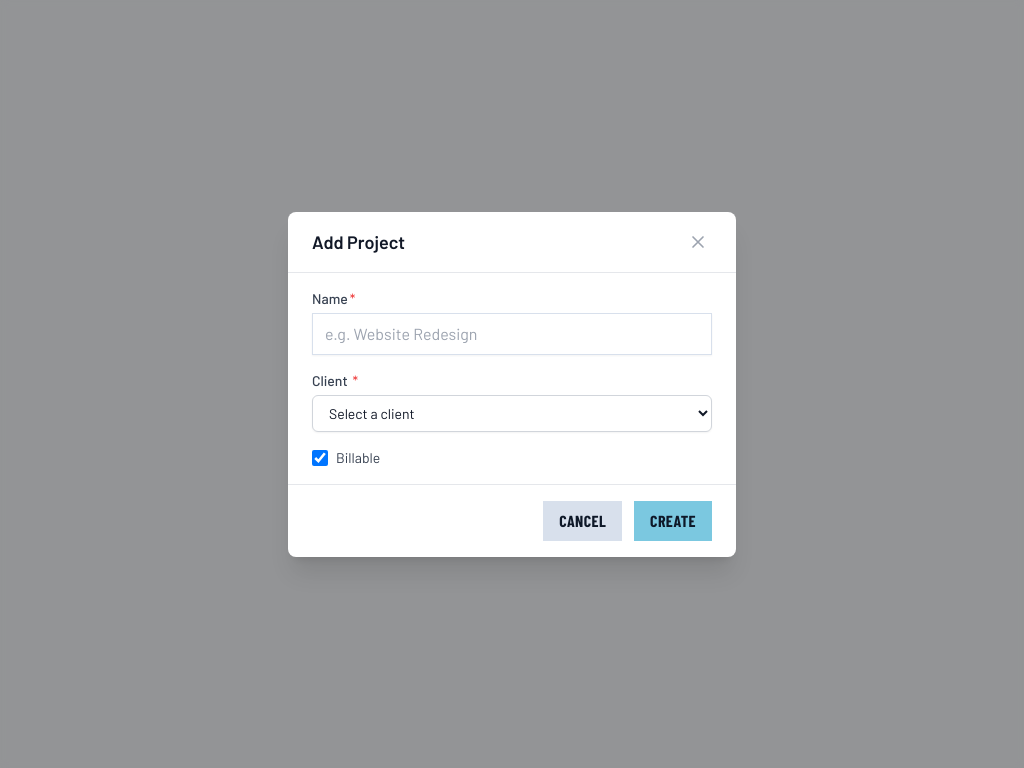
it: ProjectForm › shows validation error for empty name
// Select a client so validation only fails on name
Select "Client A" in the dropdown labelled "Client *": (512, 413) [312,394,712,432]
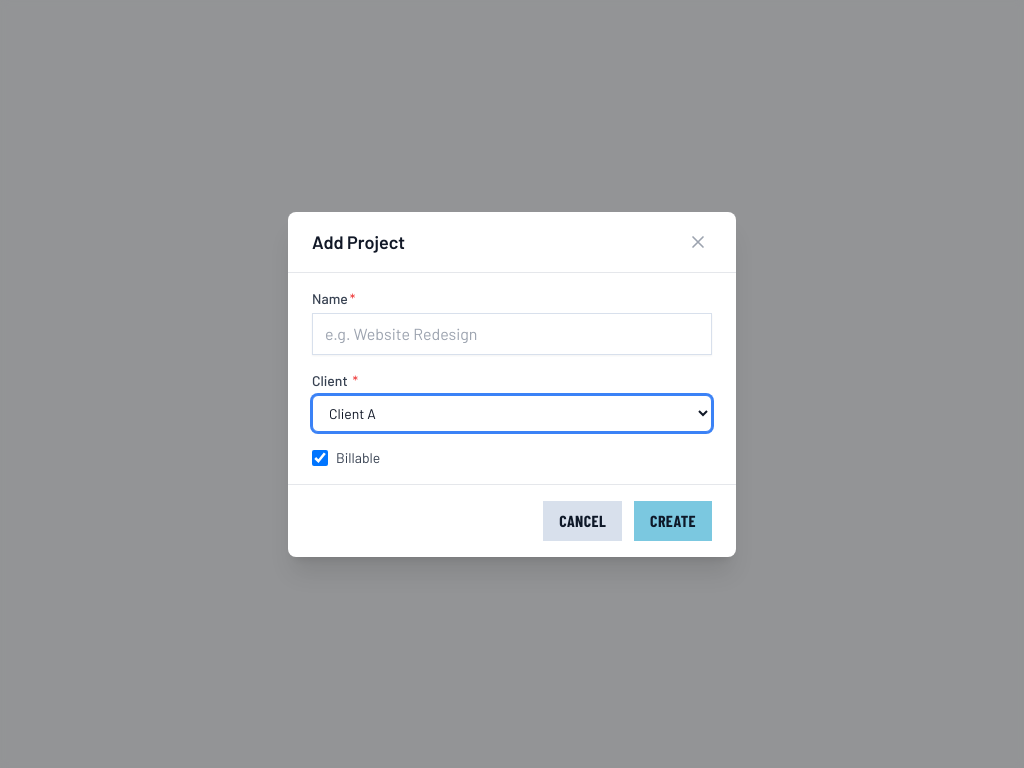
Click the button "Create": (673, 520) [634,500,712,540]
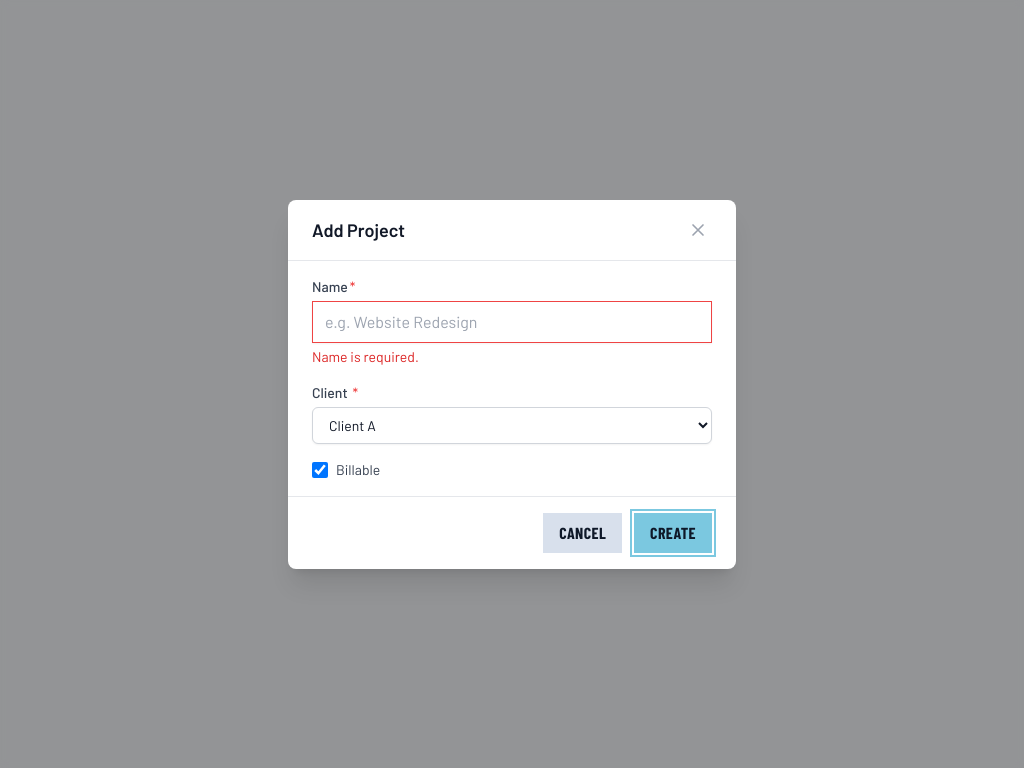
Now the message reads "Name is required.", box [312,348,419,364]
